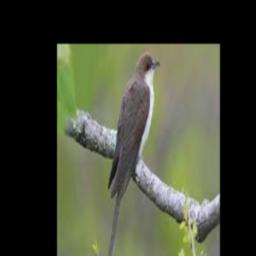Cuckoo: (104, 53, 159, 256)
